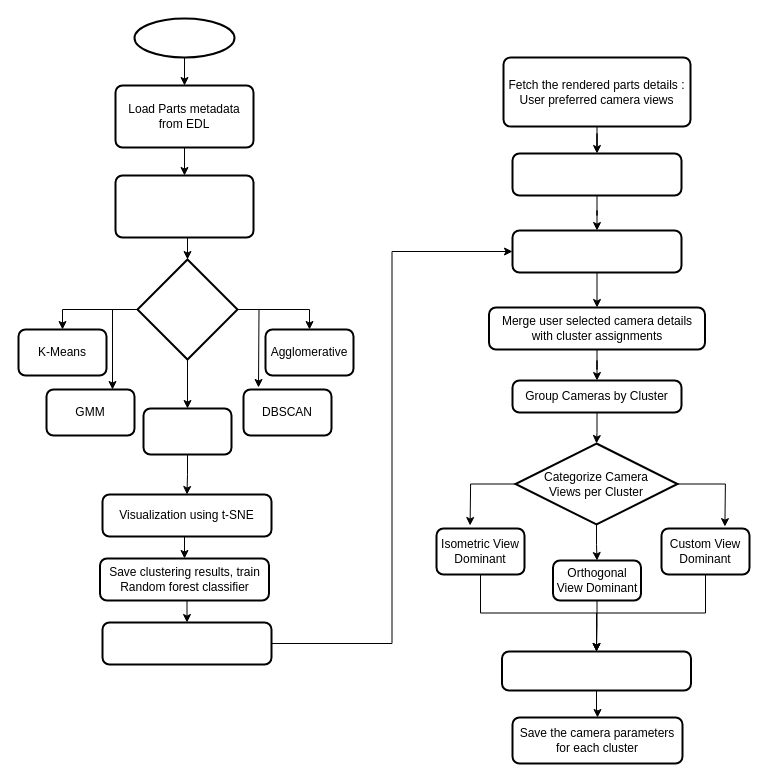
Some shapes in this 767 by 781 pixel diagram are drawn without their labels. Here are the shapes that lost their labels. From the top down, the centre of each, then its label:
pixel 184 37: Start
pixel 596 174: Fetch the metadata for those parts from EDL
pixel 184 206: Engineered features
pixel 596 251: Load the ML model and get cluster details
pixel 187 309: Clustering Algorithms
pixel 187 431: Spectral
pixel 186 643: Save ML model (pkl)
pixel 596 670: Select best 4 representative camera views
